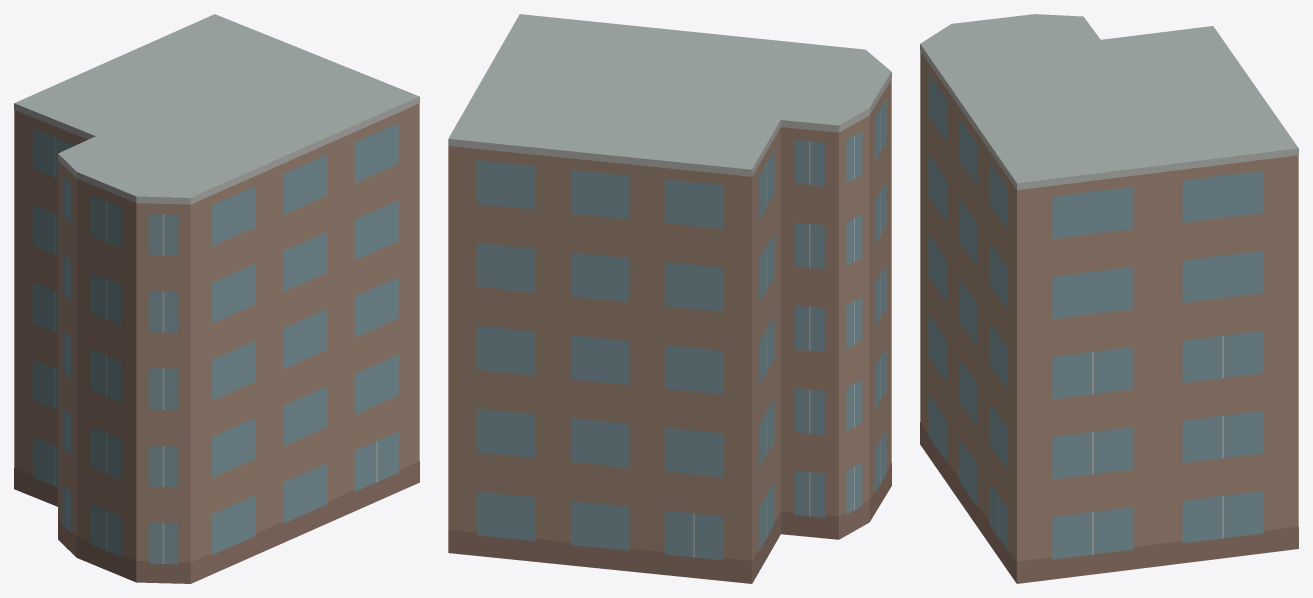
File: survey-upis-32652900.glb
The picture shows the model from 3 angles, left to right: view 1: azimuth 30°, elevation 25°; view 2: azimuth 150°, elevation 25°; view 3: azimuth 270°, elevation 25°; orthographic projection. The views are drawn at different scales.
Parts seen in each view (by area): view 1: survey-upis-32652900.tmp; view 2: survey-upis-32652900.tmp; view 3: survey-upis-32652900.tmp.
Part boxes in pixels (x1=…): survey-upis-32652900.tmp: x1=14, y1=14, x2=419, y2=583; survey-upis-32652900.tmp: x1=448, y1=14, x2=891, y2=583; survey-upis-32652900.tmp: x1=920, y1=14, x2=1298, y2=583.
Bounding box in the file's own units: 12.89 × 14.2 × 12.18.
